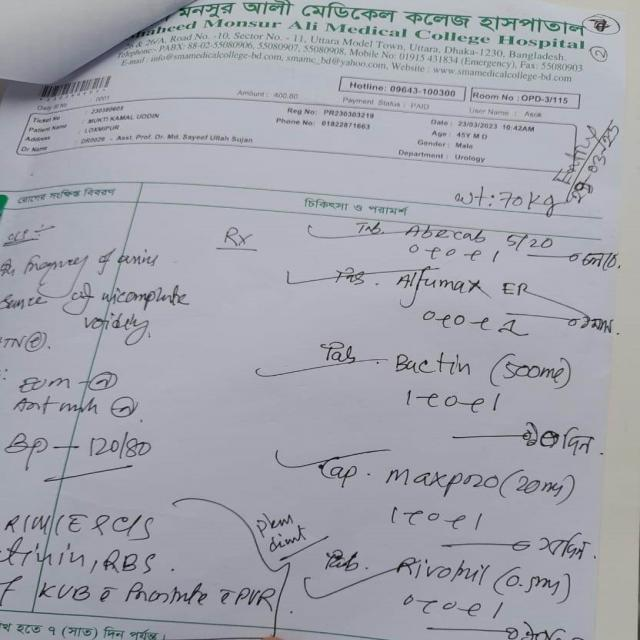Abecab: (401, 220, 493, 247)
Alfumax ER: (394, 263, 538, 305)
Bactin: (392, 345, 482, 381)
Maxpro: (382, 448, 499, 498)
Rivotril: (390, 547, 489, 592)
